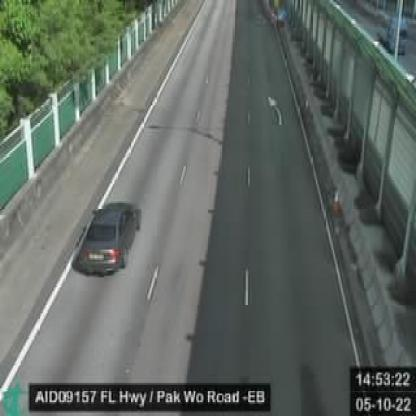Car: (76, 201, 138, 276)
